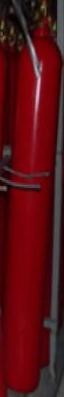cylinder: (0, 1, 64, 397)
